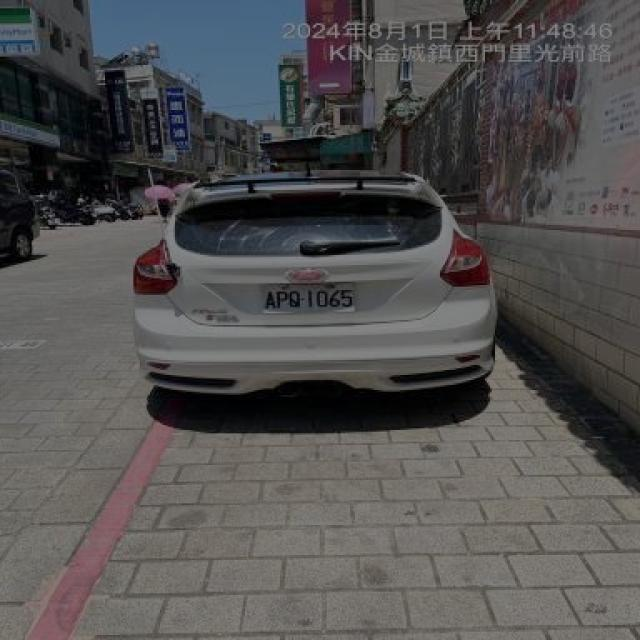Legalparking: (133, 168, 497, 393)
